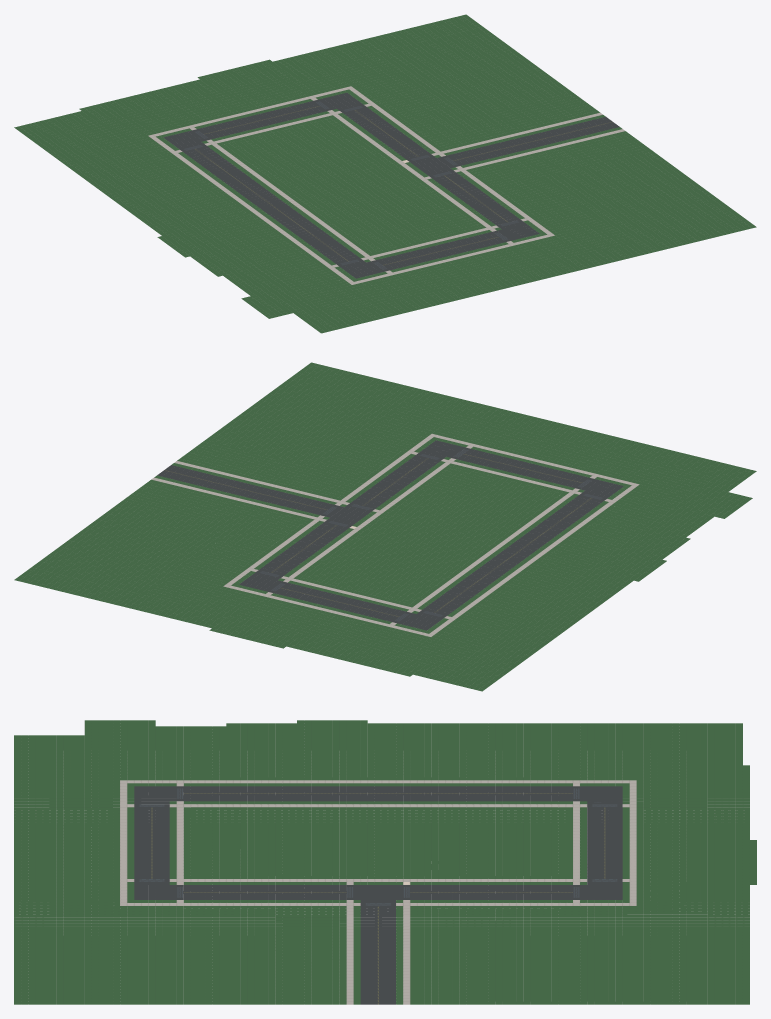
File: World.dae
3 views of the same model, one above another, from view 1: azimuth 30°, elevation 25°; view 2: azimuth 150°, elevation 25°; view 3: azimuth 270°, elevation 25° (orthographic). The views are drawn at different scales.
Parts seen in each view (by area): view 1: World-col; view 2: World-col; view 3: World-col.
Part boxes in pixels (left/top/right/bottom): World-col: left=14, top=14, right=756, bottom=333; World-col: left=14, top=362, right=756, bottom=691; World-col: left=14, top=720, right=756, bottom=1004.
Bounding box in the file's own units: 92.03 × 102 × 0.
1 material, 1 textured.
